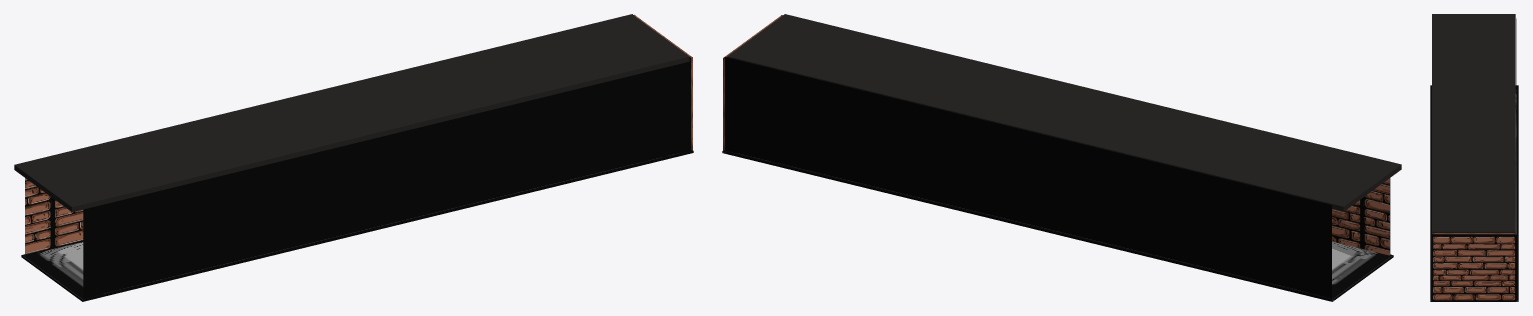
The model's file is primer escenario.fbx.
3 renders of one model, left to right at view 1: azimuth 30°, elevation 25°; view 2: azimuth 150°, elevation 25°; view 3: azimuth 270°, elevation 25°, orthographic. The views are drawn at different scales.
Visible parts, largest first — view 1: polySurface14, polySurface16, polySurface12, polySurface15; view 2: polySurface15, polySurface16, polySurface12, polySurface14; view 3: polySurface16, polySurface13, polySurface12, polySurface15.
Boxes of the visible parts, x1,y1,x2,y2 form: polySurface14: (83,59,690,298); polySurface16: (14,14,689,212); polySurface12: (21,150,693,301); polySurface15: (25,14,632,255); polySurface15: (725,57,1331,298); polySurface16: (727,14,1401,211); polySurface12: (722,150,1393,301); polySurface14: (1332,178,1390,255); polySurface16: (1432,14,1515,233); polySurface13: (1432,233,1516,300); polySurface12: (1430,85,1518,301); polySurface15: (1516,18,1516,233).
Bounding box in the file's own units: 210 × 31.13 × 35.84.
